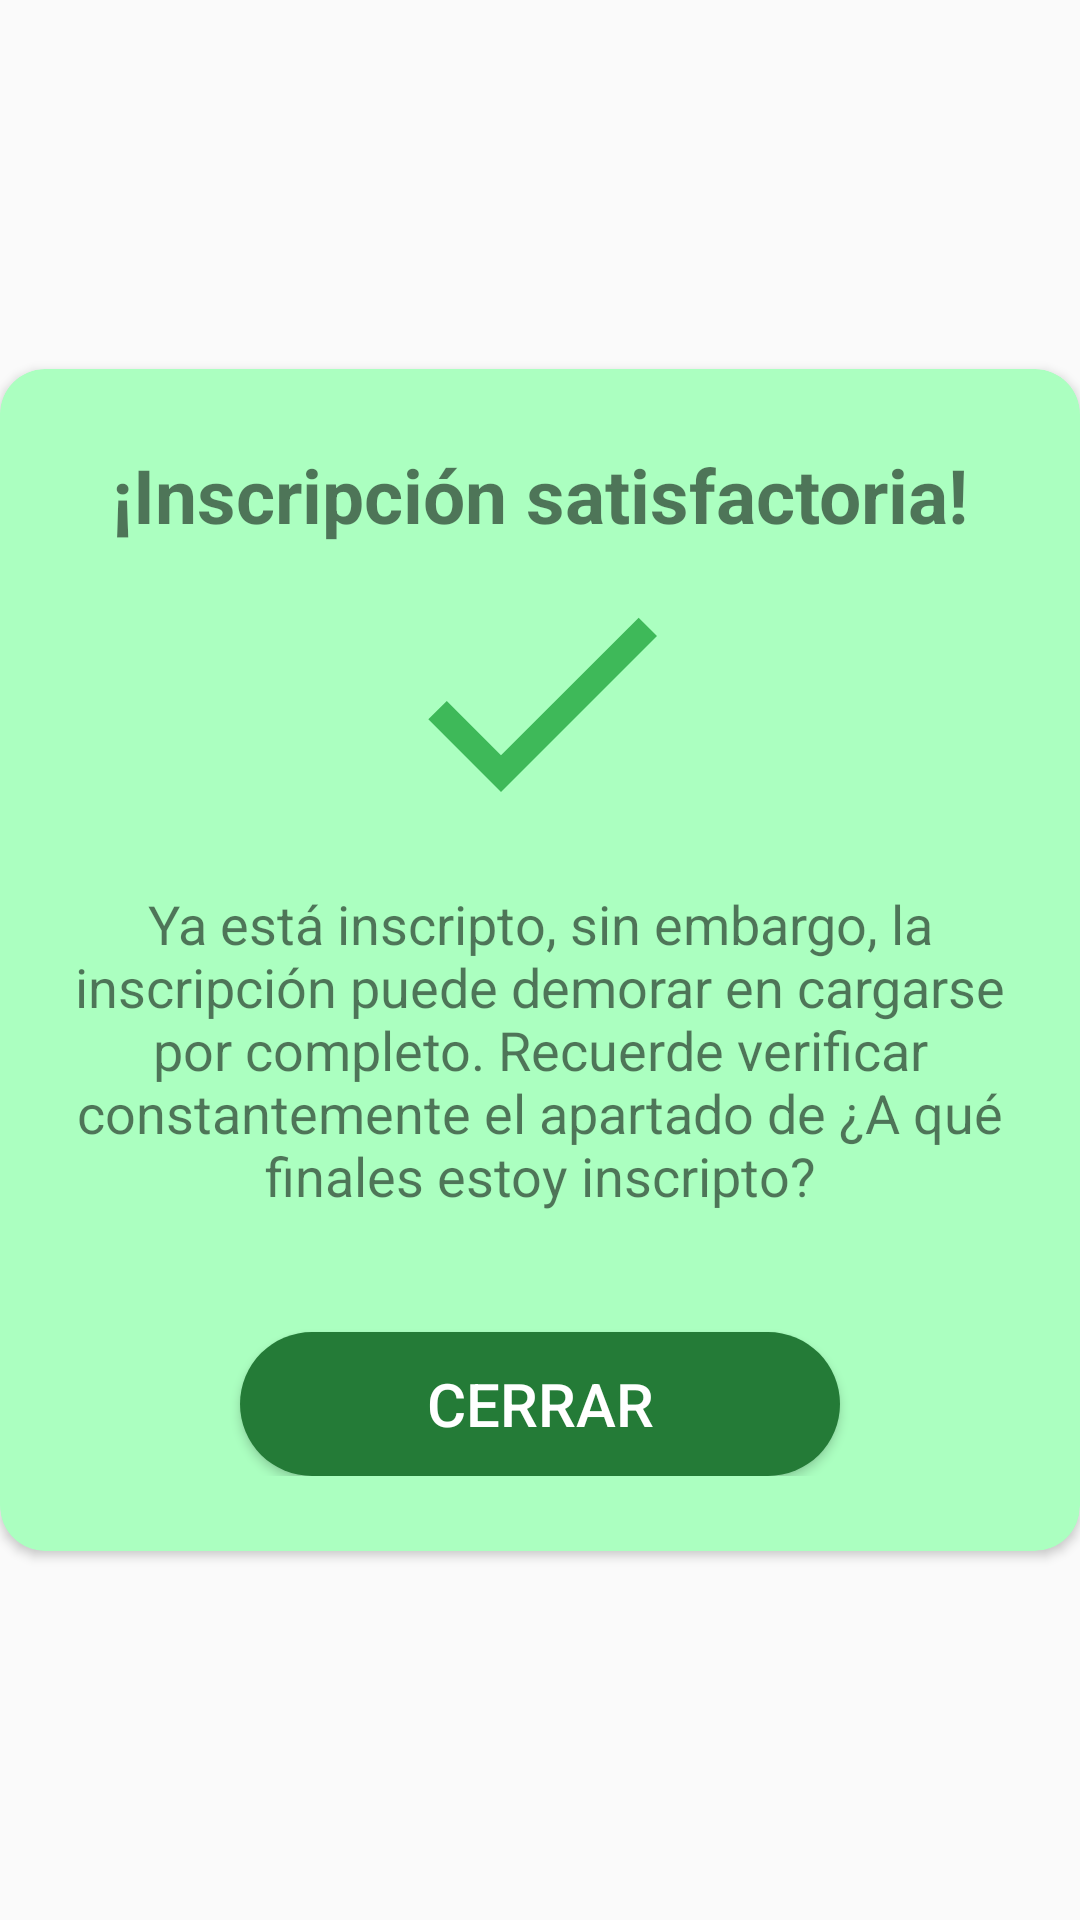

Named icons in this screenshot (1080x1920) and their bounding boxes, Rect(x1, y1, x2, y2):
check: Rect(428, 618, 657, 792)
